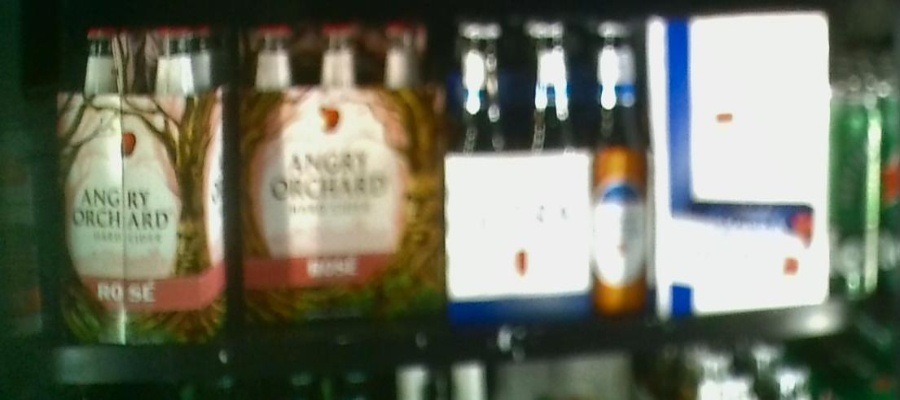bottle: (237, 24, 442, 320), (444, 25, 646, 317), (60, 26, 233, 340), (649, 18, 827, 311)
